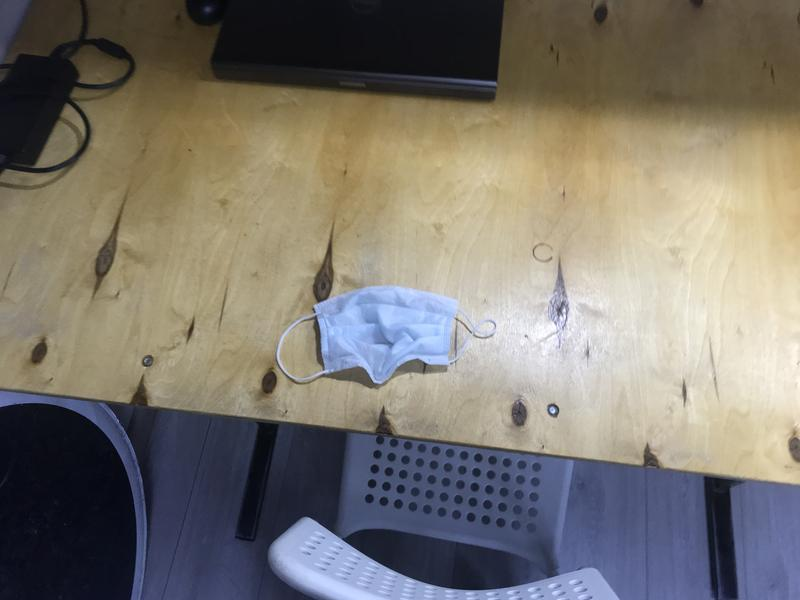medical_mask: (276, 284, 496, 384)
